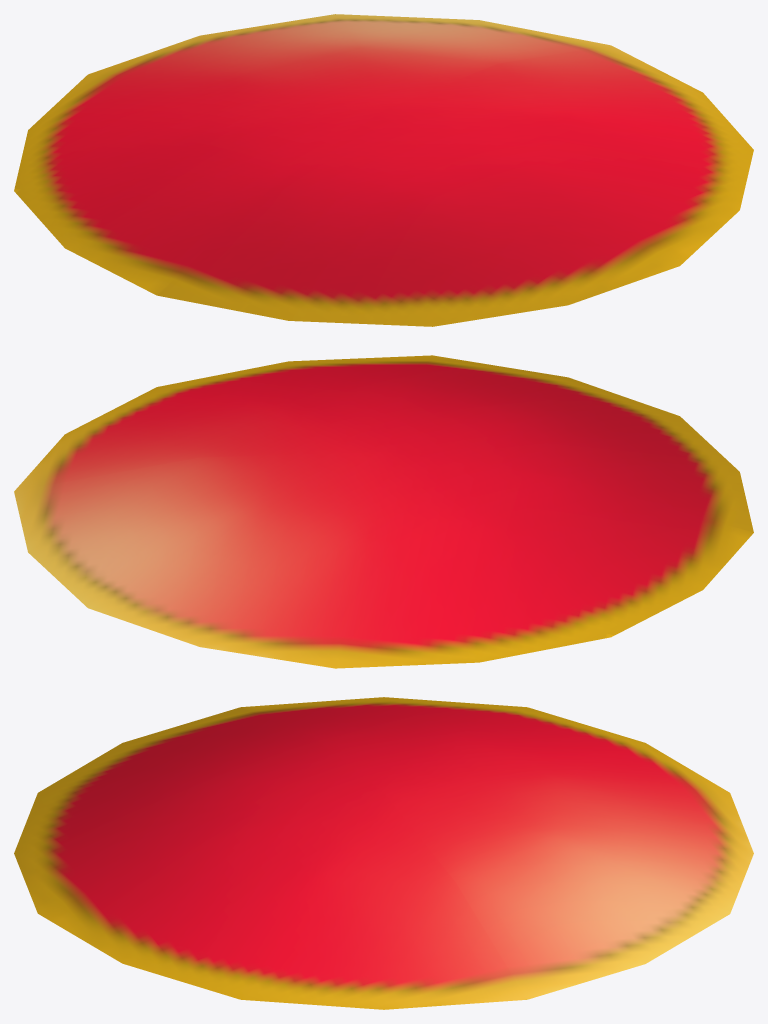
File: Shield_LPModel.fbx
3 views of the same model, one above another, from view 1: azimuth 30°, elevation 25°; view 2: azimuth 150°, elevation 25°; view 3: azimuth 270°, elevation 25° (orthographic).
Parts seen in each view (by area): view 1: large shield; view 2: large shield; view 3: large shield.
Boxes of the visible parts, box(x1,y1,x2,y2) form: large shield: box(14, 14, 753, 326); large shield: box(14, 355, 753, 668); large shield: box(14, 697, 753, 1009).
Size of the model in its own units: 10.33 by 1.55 by 10.33.
